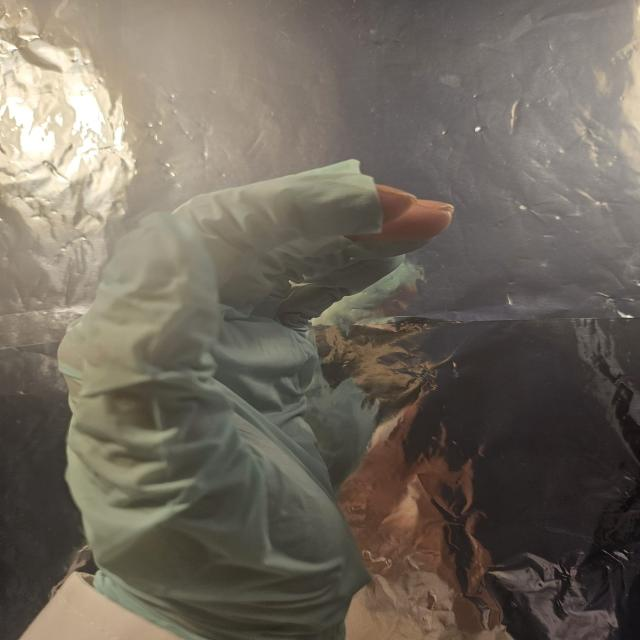gloves_damaged: (57, 155, 456, 640)
